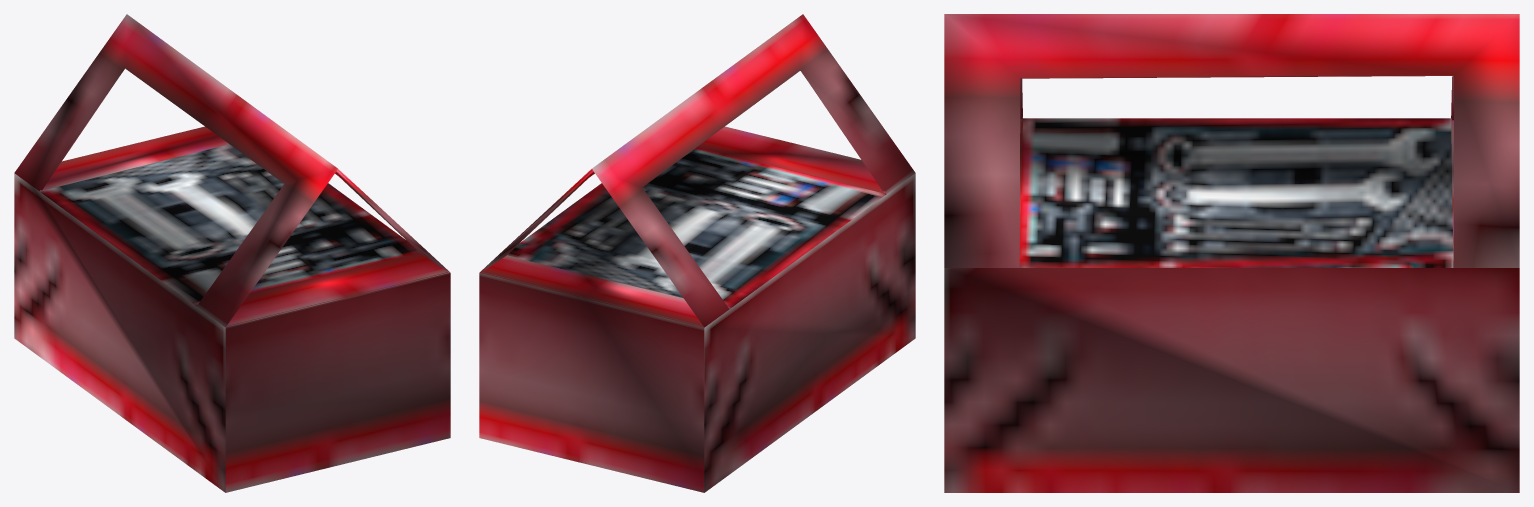
The model's file is Toolbox 1.fbx.
The picture shows the model from 3 angles, left to right: view 1: azimuth 30°, elevation 25°; view 2: azimuth 150°, elevation 25°; view 3: azimuth 270°, elevation 25°; orthographic projection. The views are drawn at different scales.
Parts seen in each view (by area): view 1: ToolBox; view 2: ToolBox; view 3: ToolBox.
Part boxes in pixels (x1,y1,x2,y2): ToolBox: [14, 14, 450, 492]; ToolBox: [479, 14, 915, 492]; ToolBox: [944, 14, 1519, 492].
Bounding box in the file's own units: 91.5 × 115 × 149.
